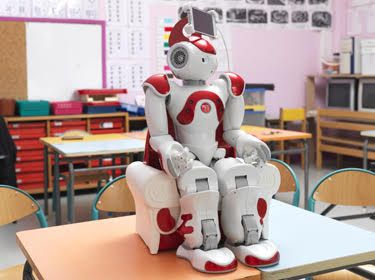nao: (131, 8, 298, 275)
